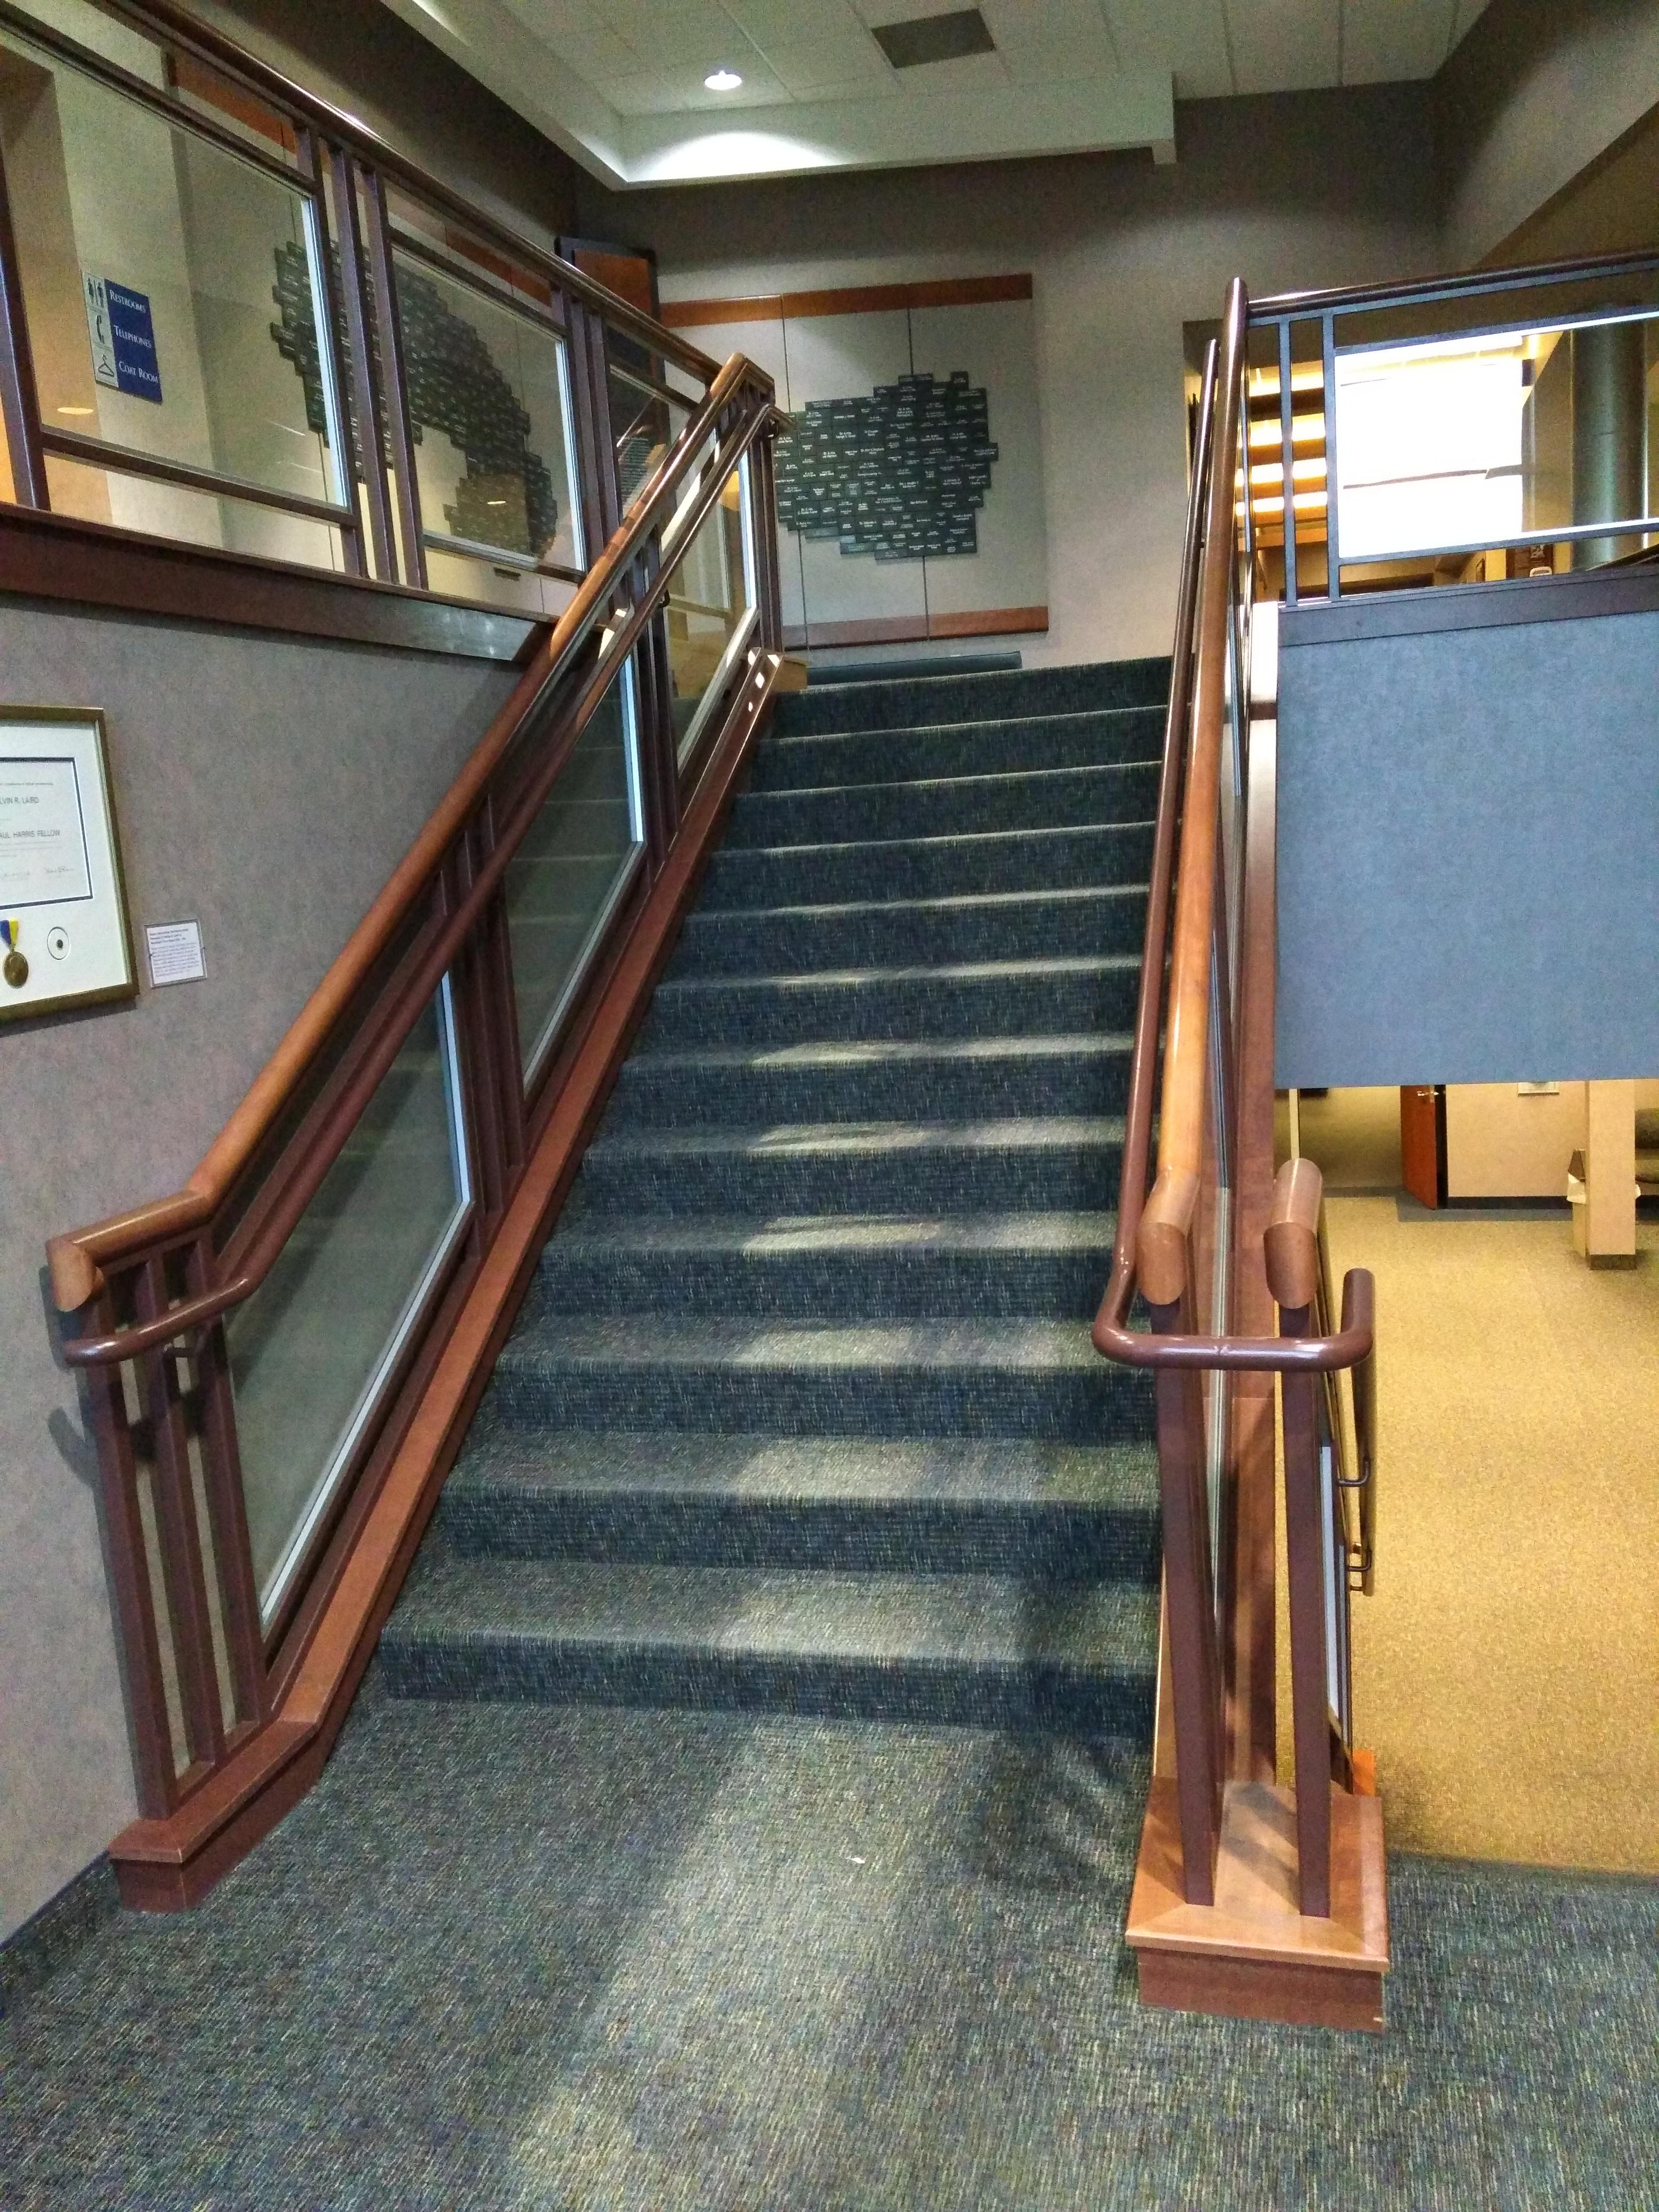stairs_up: (380, 650, 1171, 1731)
